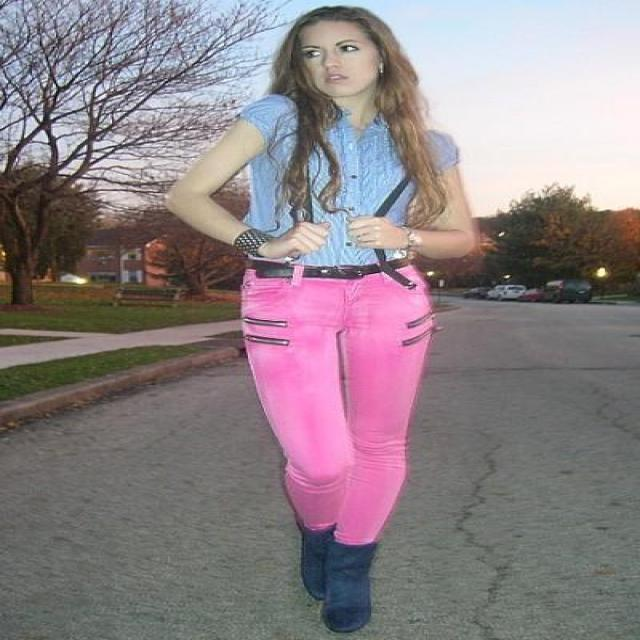pants: (242, 265, 434, 544)
shirt: (229, 90, 459, 268)
shoe: (298, 525, 376, 600)
